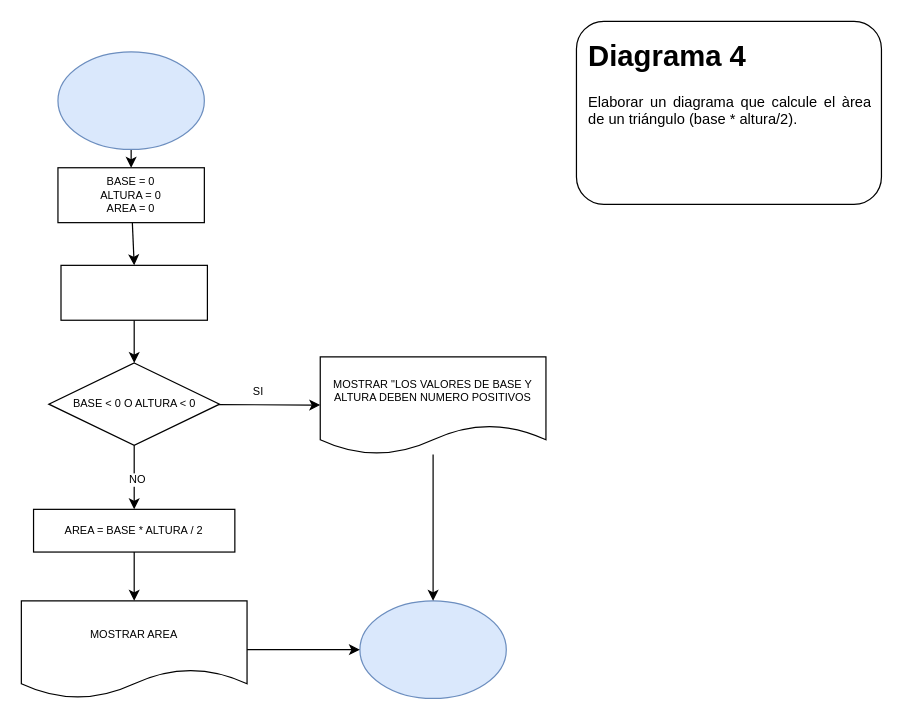
Some shapes in this 903 by 720 pixel diagram are drawn without their labels. Here are the shapes that lost their labels. From the top down, the centre of each, then its label:
At point (130, 100): "INICIO".
At point (133, 292): "LEER BASE LEER ALTURA".
At point (432, 649): "FIN".
